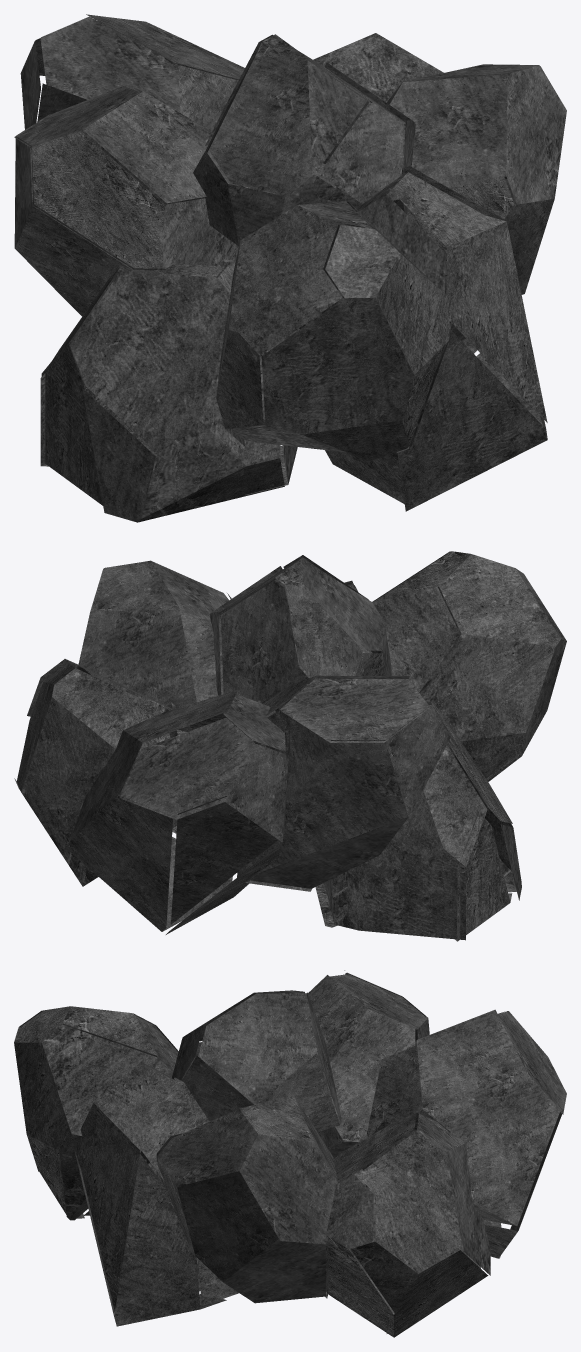
Rendered from Stone4.obj.
The picture shows the model from 3 angles, top to bottom: view 1: azimuth 30°, elevation 25°; view 2: azimuth 150°, elevation 25°; view 3: azimuth 270°, elevation 25°; orthographic projection. The views are drawn at different scales.
Parts seen in each view (by area): view 1: Object015; view 2: Object015; view 3: Object015.
Part boxes in pixels (<box>): Object015: <box>14,14,566,522</box>; Object015: <box>14,551,566,941</box>; Object015: <box>14,970,566,1337</box>.
Size of the model in its own units: 168 by 130 by 212.
Materials: 1 (1 with a texture image).
